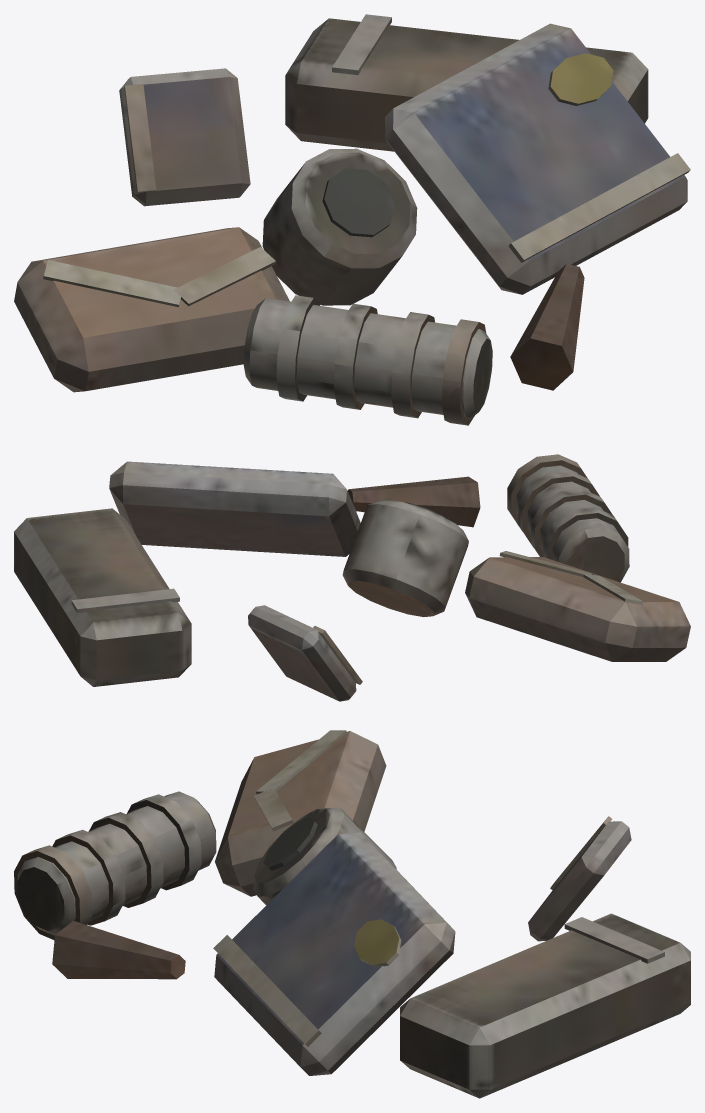
File: scrap.glb
3 views of the same model, one above another, from view 1: azimuth 30°, elevation 25°; view 2: azimuth 150°, elevation 25°; view 3: azimuth 270°, elevation 25° (orthographic). The views are drawn at different scales.
Parts seen in each view (by area): view 1: body; view 2: body; view 3: body.
Part boxes in pixels (x1,y1,x2,y2): body: (14,14,690,425); body: (14,454,690,701); body: (14,730,690,1098).
Size of the model in its own units: 1.5 by 0.3366 by 1.38.
Materials: 1 (1 with a texture image).
